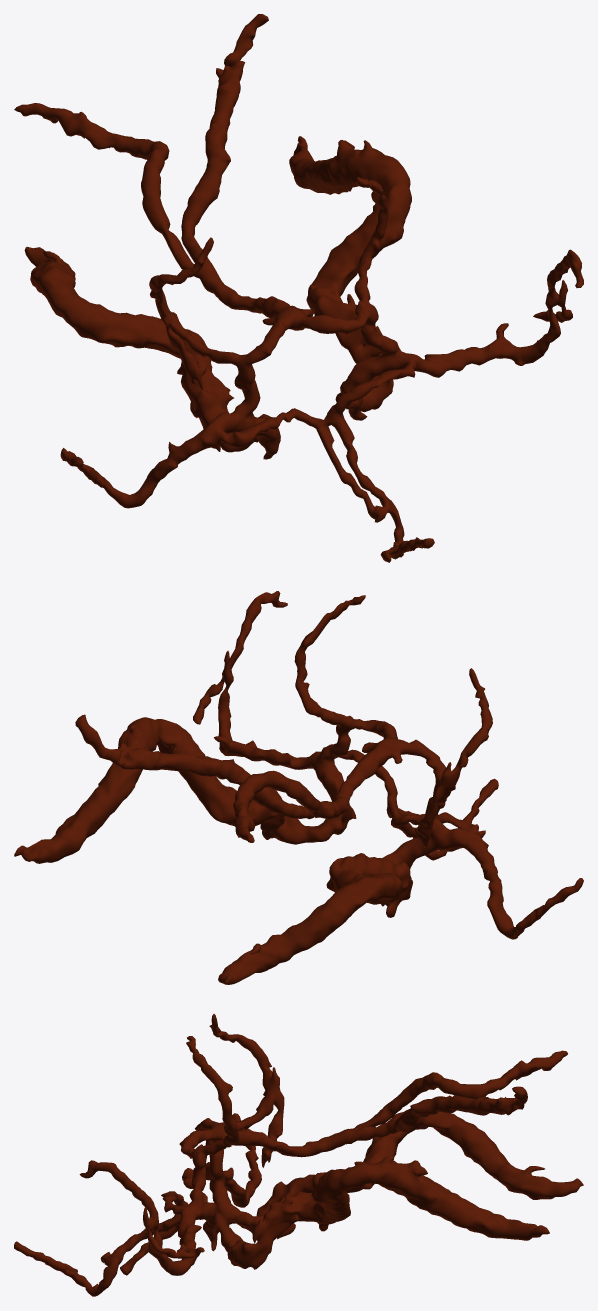
File: Arteries.obj
3 renders of one model, top to bottom at view 1: azimuth 30°, elevation 25°; view 2: azimuth 150°, elevation 25°; view 3: azimuth 270°, elevation 25°, orthographic. The views are drawn at different scales.
Visible parts, largest first — view 1: grp1; view 2: grp1; view 3: grp1.
Part boxes in pixels (box(x1,y1,x2,y2)): grp1: box(14, 14, 583, 562); grp1: box(14, 591, 583, 984); grp1: box(14, 1014, 583, 1296).
Size of the model in its own units: 89.56 by 61.24 by 118.
